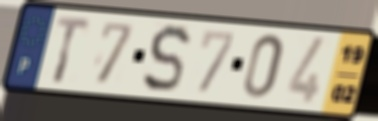0: (241, 32, 286, 103)
4: (284, 34, 327, 109)
7: (97, 20, 137, 88), (198, 28, 237, 97)
S: (140, 23, 193, 96)
T: (52, 14, 94, 86)
